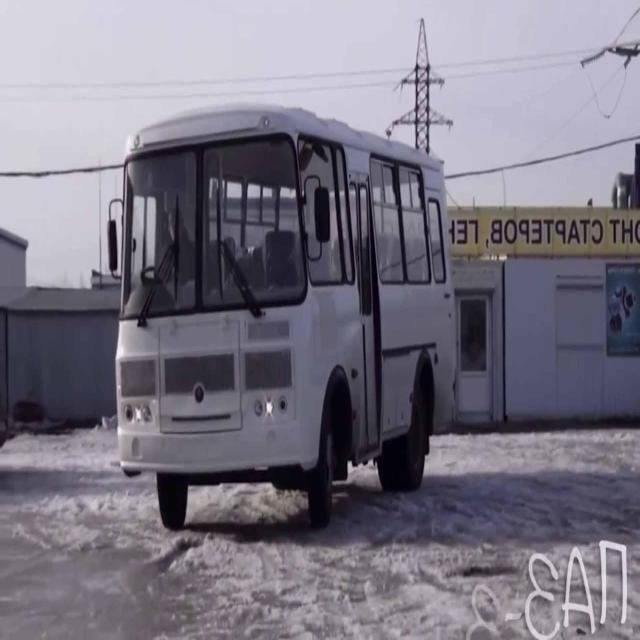bus: (107, 100, 467, 533)
